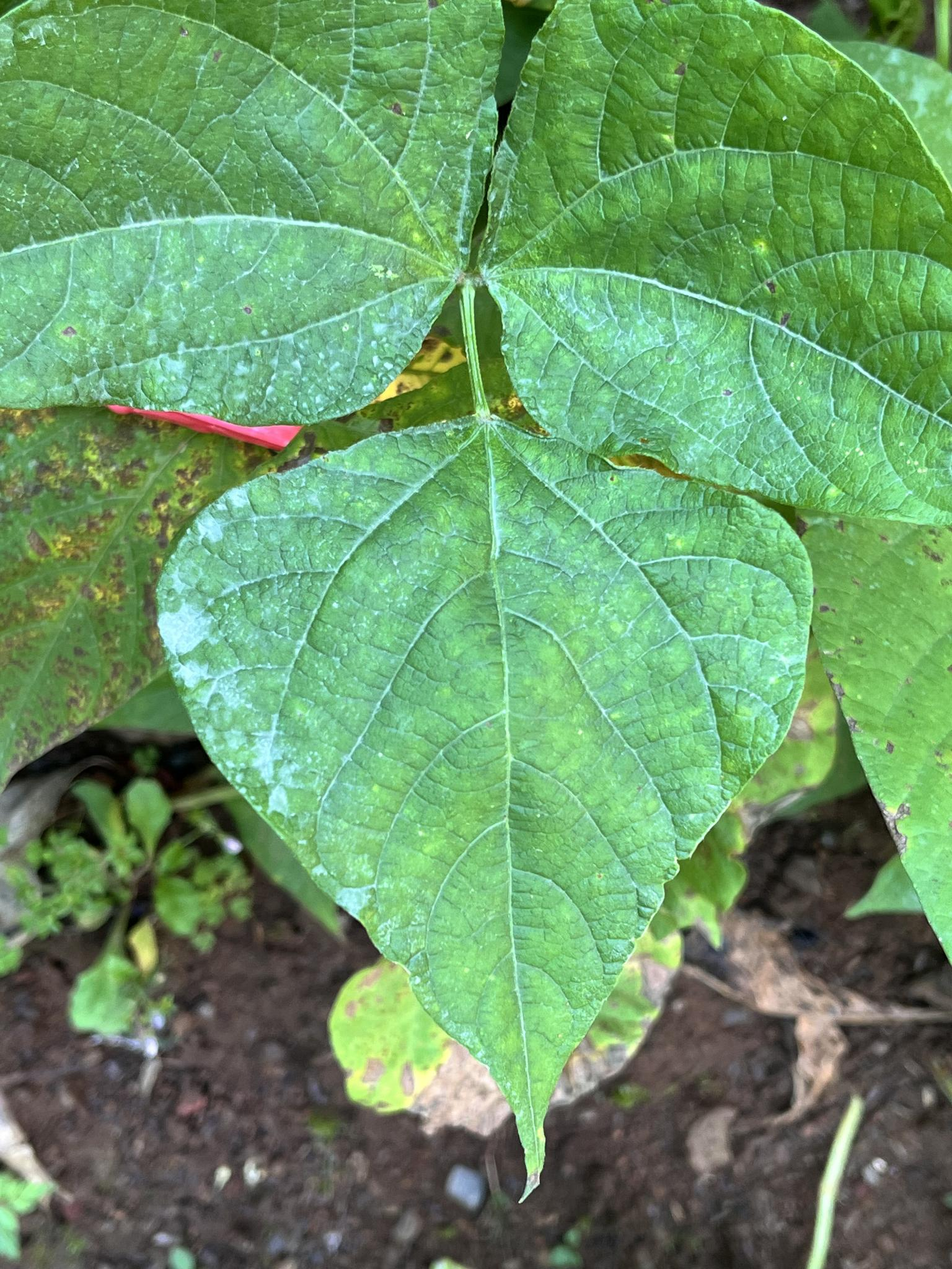embun tepung: (152, 419, 538, 1183)
